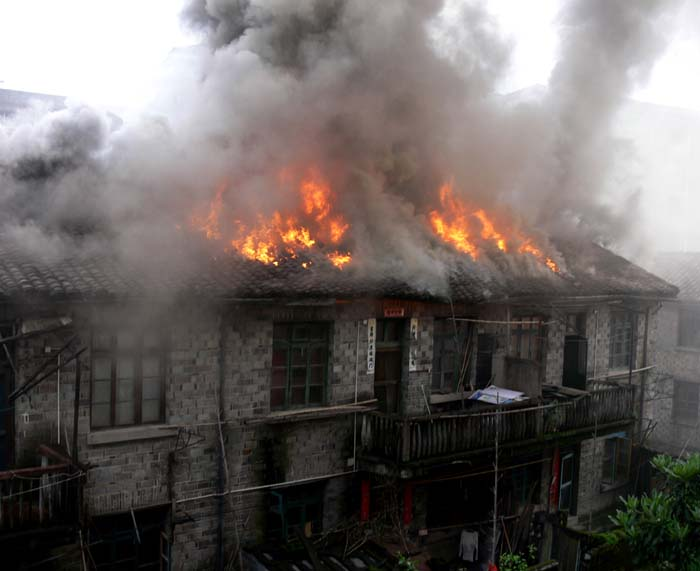fire: (184, 123, 584, 279)
